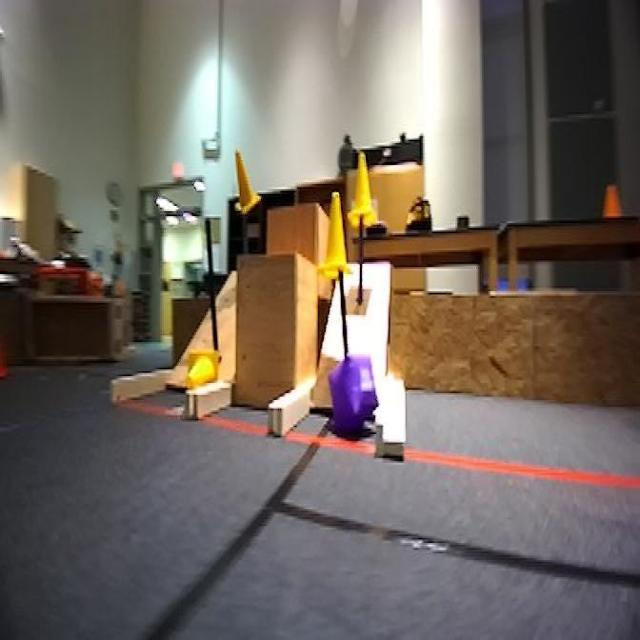frc_cone: (318, 188, 352, 272), (235, 148, 262, 215), (352, 155, 374, 219), (189, 351, 219, 395)
frc_cube: (329, 358, 378, 430)
